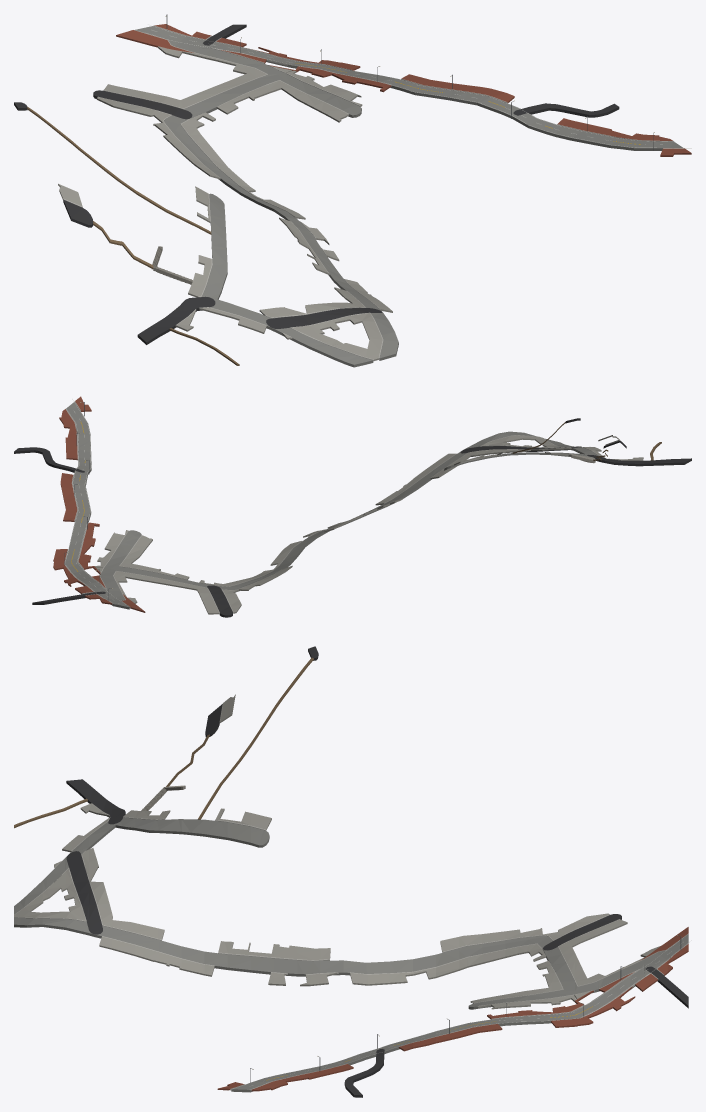
3 views of the same model, one above another, from view 1: azimuth 30°, elevation 25°; view 2: azimuth 150°, elevation 25°; view 3: azimuth 270°, elevation 25° (orthographic). The views are drawn at different scales.
Size of the model in its own units: 296 by 95.95 by 293.
